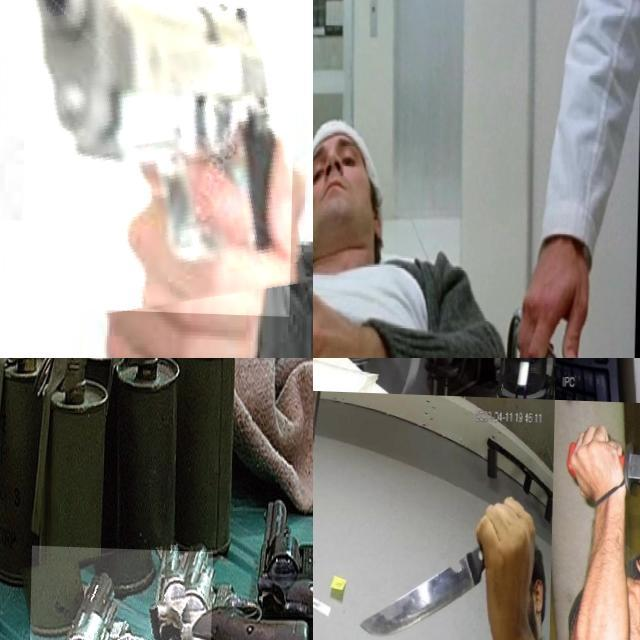-: (358, 550, 472, 640), (561, 414, 640, 491), (361, 358, 386, 383)
gun-knife-thesis - v11 Yolov5 augmented: (22, 0, 298, 314), (160, 521, 313, 640), (28, 543, 214, 640), (313, 177, 391, 358), (251, 469, 313, 640)
